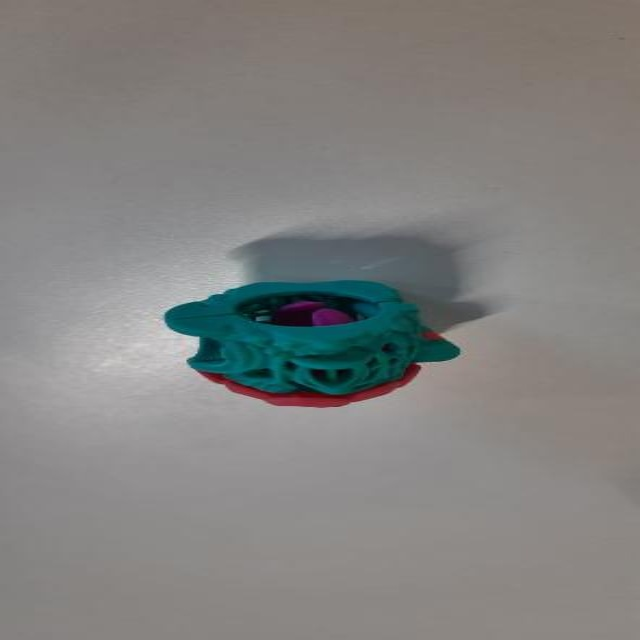House: (144, 240, 507, 428)
